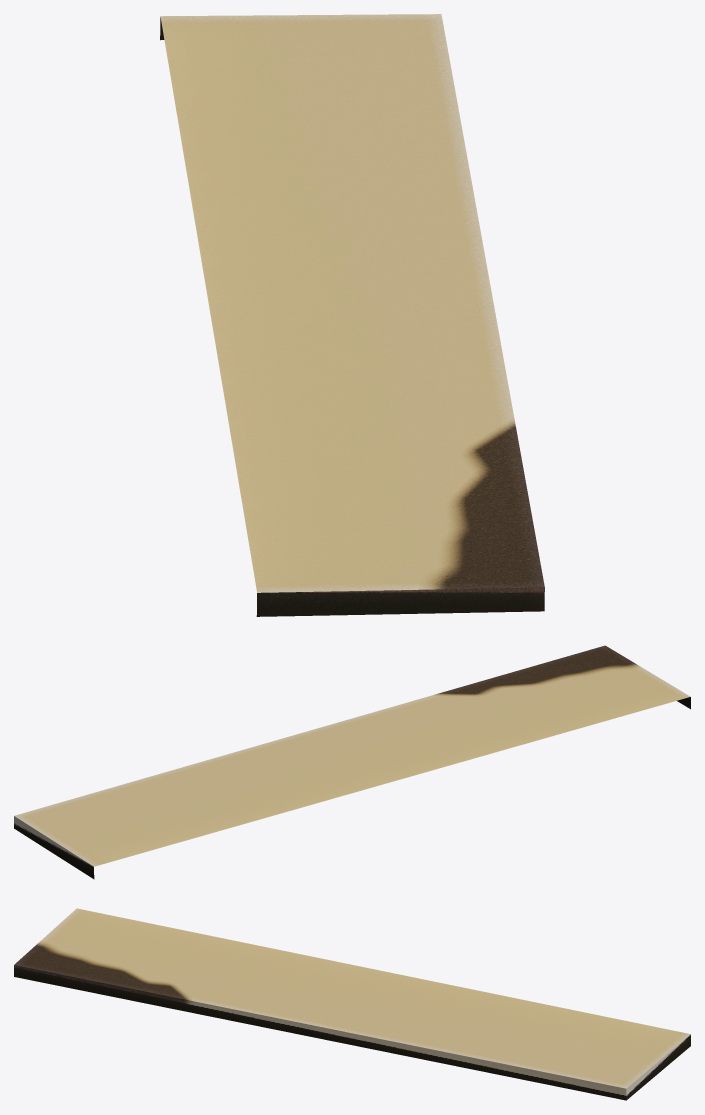
The model's file is Building_00_Deck.fbx.
The picture shows the model from 3 angles, top to bottom: view 1: azimuth 30°, elevation 25°; view 2: azimuth 150°, elevation 25°; view 3: azimuth 270°, elevation 25°; orthographic projection. The views are drawn at different scales.
Parts seen in each view (by area): view 1: Building_00_Deck; view 2: Building_00_Deck; view 3: Building_00_Deck.
Part boxes in pixels (left/top/right/bottom): Building_00_Deck: left=160, top=14, right=544, bottom=616; Building_00_Deck: left=14, top=645, right=690, bottom=879; Building_00_Deck: left=14, top=908, right=690, bottom=1100.
Size of the model in its own units: 11.18 by 0.4129 by 17.85.
Materials: 1 (1 with a texture image).
